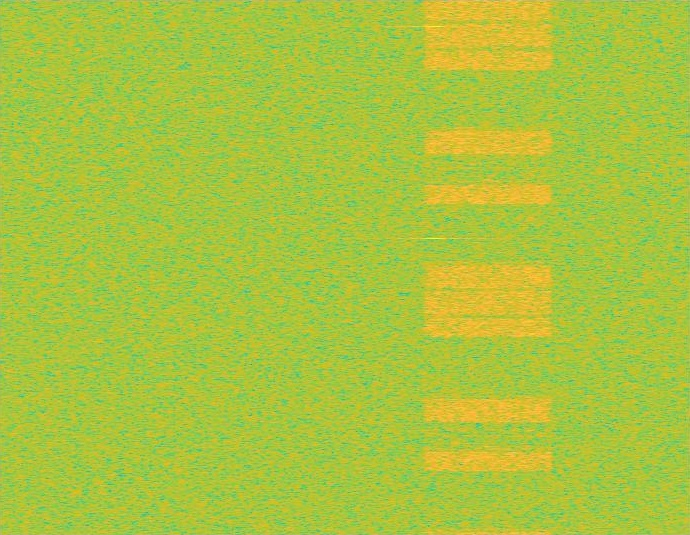LTE: (419, 0, 557, 534)
Radar: (427, 0, 441, 534)
